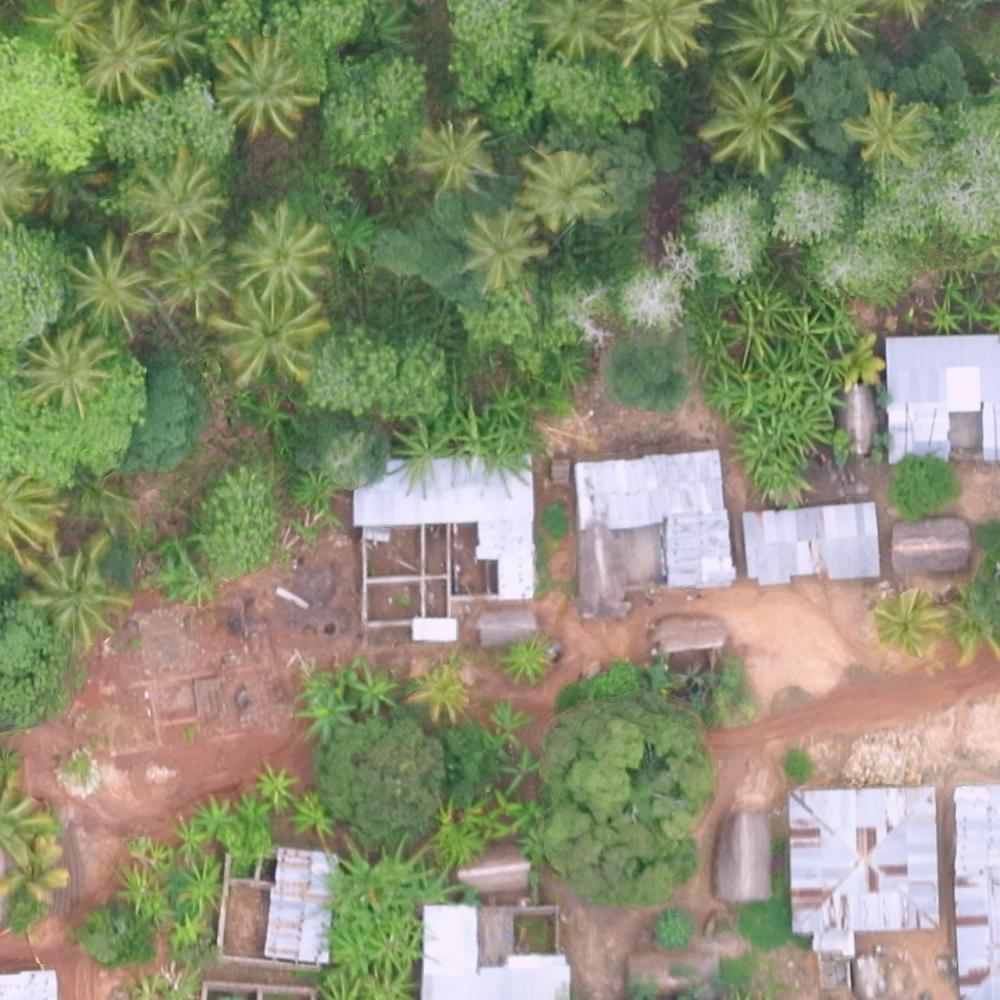Palm: (704, 72, 811, 183), (213, 291, 332, 390), (22, 534, 123, 649), (217, 38, 314, 139), (65, 238, 162, 332), (129, 151, 221, 248), (237, 206, 330, 298), (27, 327, 114, 414), (720, 1, 806, 89), (83, 9, 161, 106), (847, 90, 931, 171), (461, 206, 547, 285), (520, 149, 606, 225), (620, 1, 710, 68), (153, 240, 229, 314), (789, 1, 875, 64), (414, 119, 490, 190), (535, 1, 622, 61)
